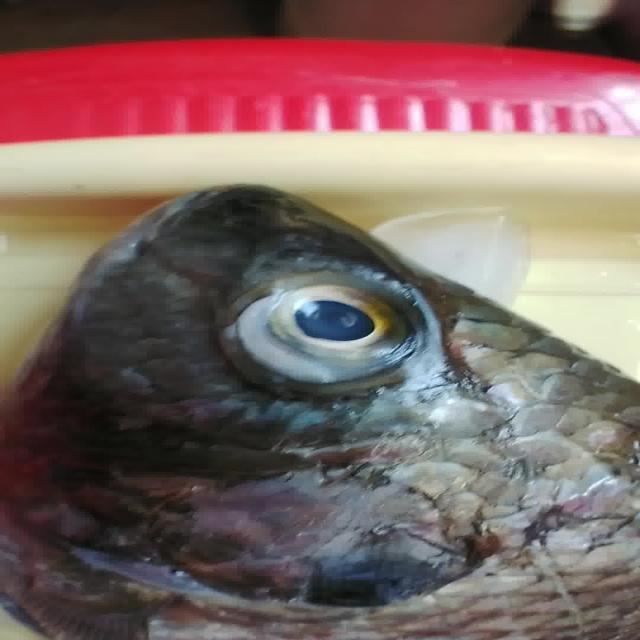Fresh: (208, 267, 460, 401)
